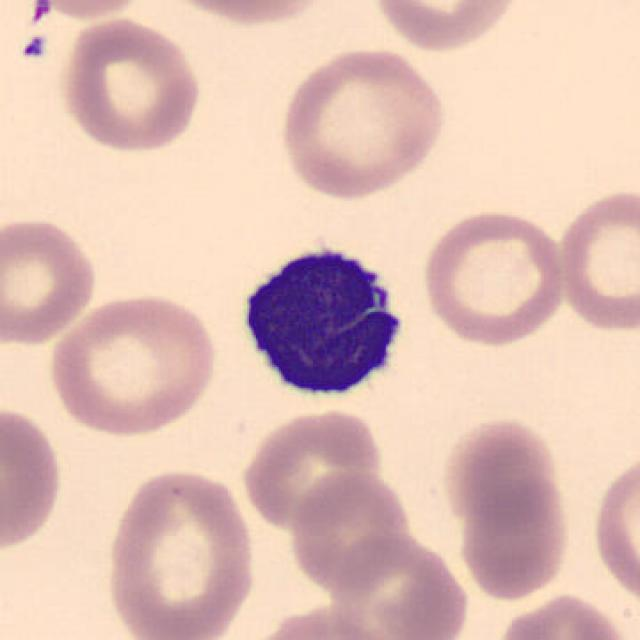Lymphocyte: (228, 229, 418, 411)
Platelets: (18, 32, 50, 63)
RBC: (274, 41, 450, 202), (102, 464, 260, 638), (44, 289, 220, 439), (418, 203, 569, 349), (57, 14, 204, 157), (238, 406, 388, 534), (325, 529, 473, 640), (286, 467, 412, 596), (453, 474, 576, 603), (437, 412, 567, 532), (0, 211, 101, 350), (553, 185, 638, 335), (0, 399, 66, 557), (366, 0, 526, 55), (588, 448, 638, 613), (492, 590, 631, 640), (242, 601, 400, 640), (153, 0, 339, 30), (20, 0, 160, 21)
